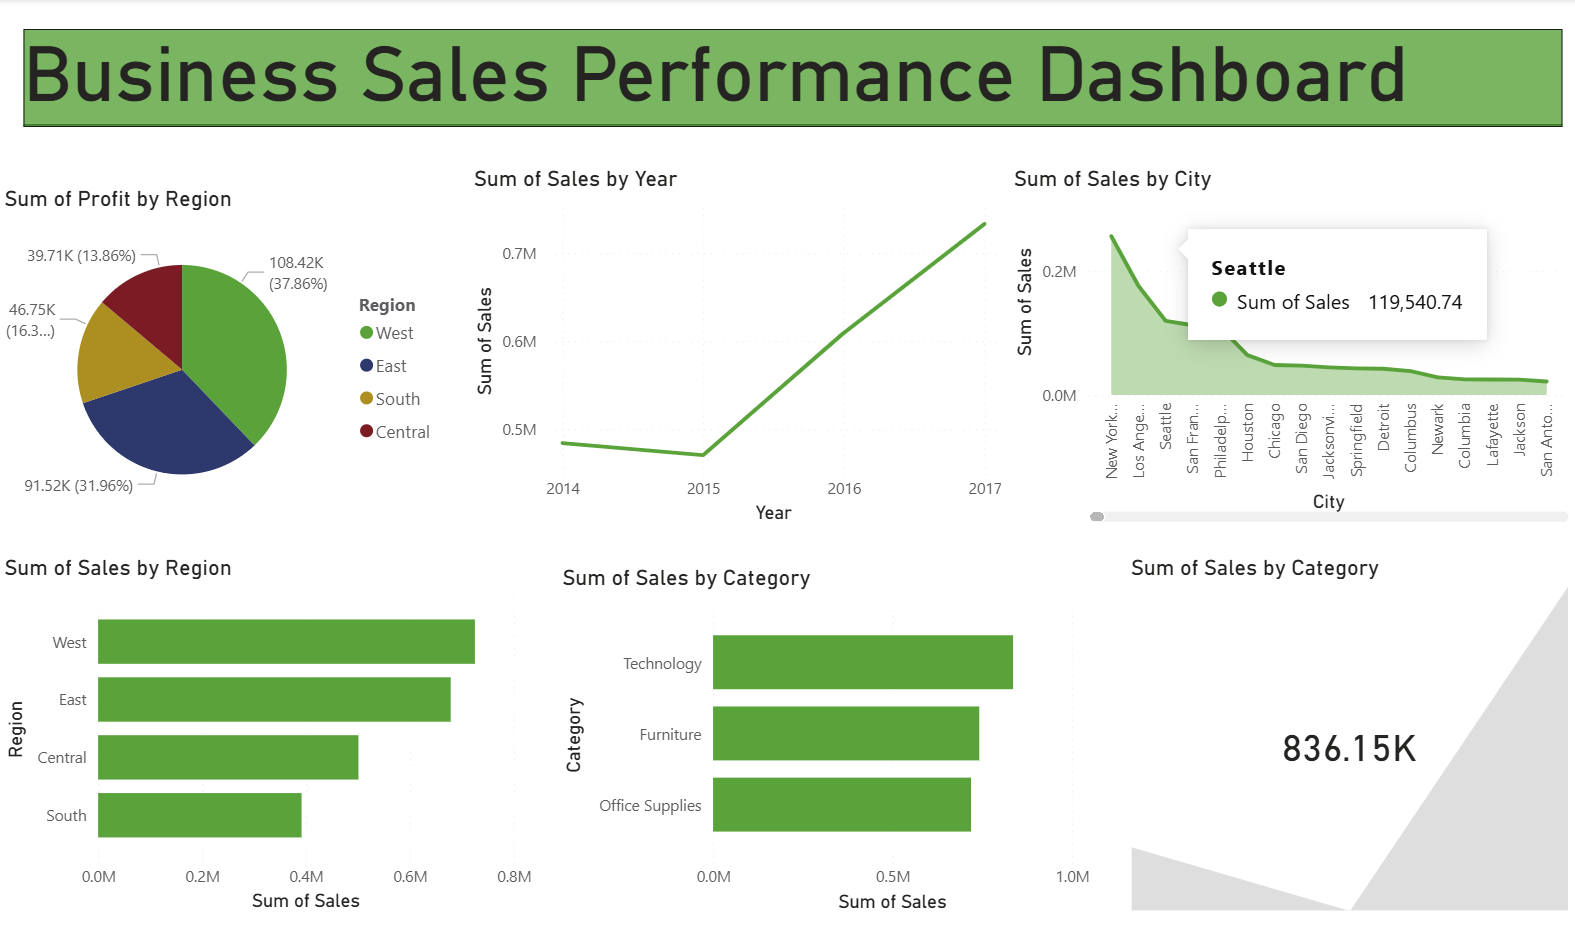

Layout of this report page (visuals, bound fields, positions):
{"tool":"powerbi","page":{"name":"Page 1","canvas":[1280,720],"ordinal":0},"visuals":[{"type":"lineChart","fields":{"Category":["Sample - Superstore.Order Date.Variation.Date Hierarchy.Year","Sample - Superstore.Order Date.Variation.Date Hierarchy.Quarter","Sample - Superstore.Order Date.Variation.Date Hierarchy.Month","Sample - Superstore.Order Date.Variation.Date Hierarchy.Day"],"Y":["Sum(Sample - Superstore.Sales)"]},"box":[362.7,128.6,417.1,280.4],"z":0},{"type":"barChart","fields":{"Category":["Sample - Superstore.Category"],"Y":["Sum(Sample - Superstore.Sales)"]},"box":[431,436.8,417.1,272.3],"z":1000},{"type":"barChart","fields":{"Category":["Sample - Superstore.Region"],"Y":["Sum(Sample - Superstore.Sales)"]},"box":[0,429,417,280],"z":2000},{"type":"kpi","fields":{"Indicator":["Sum(Sample - Superstore.Sales)"],"TrendLine":["Sample - Superstore.Category"]},"box":[870.2,428.7,347.6,280.4],"z":2002},{"type":"pieChart","fields":{"Y":["Sum(Sample - Superstore.Profit)"],"Category":["Sample - Superstore.Region"]},"box":[0,143.7,348.8,265.3],"z":2005},{"type":"areaChart","fields":{"Y":["Sum(Sample - Superstore.Sales)"],"Category":["Sample - Superstore.City"]},"box":[780,129,438,280],"z":2006},{"type":"shape","title":"Business Sales Performance Dashboard","box":[19.7,23.2,1188.9,75.3],"z":2007}]}

Visuals, with their boxes on the page's 1280x720 design canvas (x1, y1, x2, y2). These are canvas units, not pixel positions in the 1575x931 screenshot, which may show the page scaled, cropped or inside an application window:
lineChart - Sample - Superstore.Order Date.Variation.Date Hierarchy.Year x Sample - Superstore.Order Date.Variation.Date Hierarchy.Quarter: pyautogui.locateOnScreen(363, 129, 780, 409)
barChart - Sample - Superstore.Category x Sum(Sample - Superstore.Sales): pyautogui.locateOnScreen(431, 437, 848, 709)
barChart - Sample - Superstore.Region x Sum(Sample - Superstore.Sales): pyautogui.locateOnScreen(0, 429, 417, 709)
kpi - Sum(Sample - Superstore.Sales) x Sample - Superstore.Category: pyautogui.locateOnScreen(870, 429, 1218, 709)
pieChart - Sum(Sample - Superstore.Profit) x Sample - Superstore.Region: pyautogui.locateOnScreen(0, 144, 349, 409)
areaChart - Sum(Sample - Superstore.Sales) x Sample - Superstore.City: pyautogui.locateOnScreen(780, 129, 1218, 409)
"Business Sales Performance Dashboard" shape: pyautogui.locateOnScreen(20, 23, 1209, 98)
